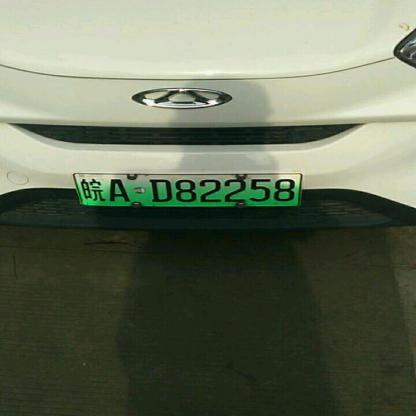lp: (74, 172, 300, 206)
